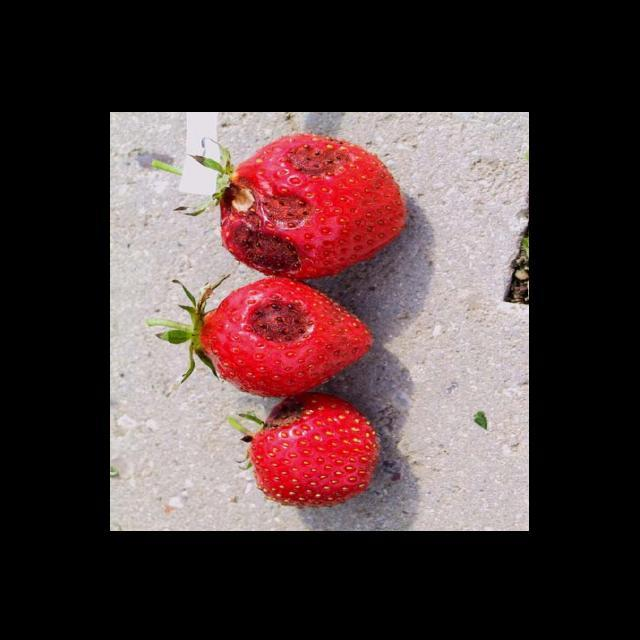Anthracnose Fruit Rot: (225, 134, 353, 274), (251, 294, 308, 345), (262, 398, 307, 434)
